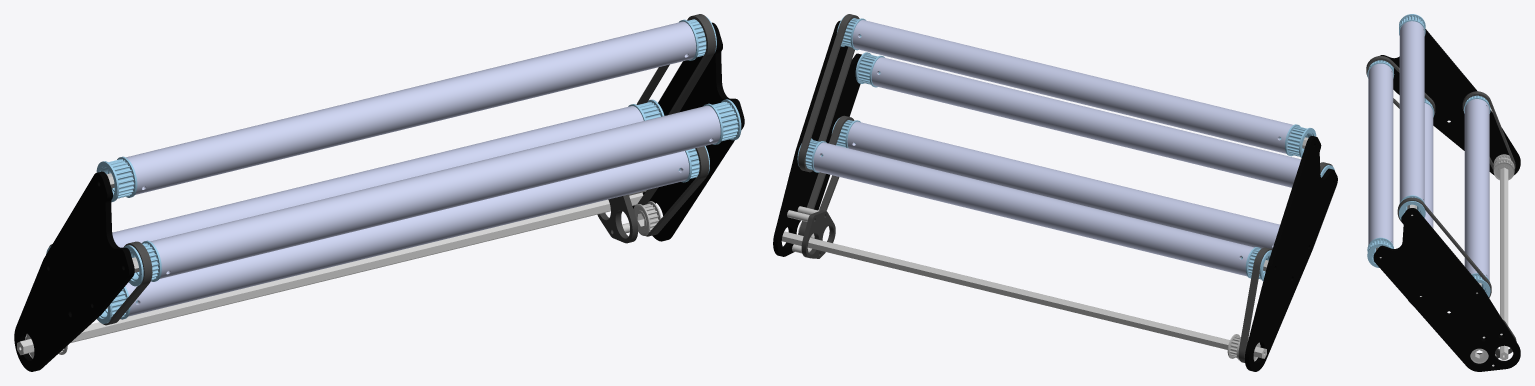
The model's file is Snapback_Collector_Intake.glb.
The picture shows the model from 3 angles, left to right: view 1: azimuth 30°, elevation 25°; view 2: azimuth 150°, elevation 25°; view 3: azimuth 270°, elevation 25°; orthographic projection. The views are drawn at different scales.
Parts seen in each view (by area): view 1: NAUO170 (×4), NAUO151, NAUO156, NAUO146, NAUO174 (×2), NAUO159, NAUO163, NAUO162, NAUO175, NAUO160, NAUO158; view 2: NAUO170 (×4), NAUO151, NAUO156, NAUO146, NAUO159, NAUO162, NAUO163, NAUO161, NAUO174, NAUO175; view 3: NAUO170 (×4), NAUO146, NAUO151, NAUO156, NAUO175 (×3), NAUO159, NAUO161, NAUO160, NAUO133, NAUO174, NAUO158.
Part boxes in pixels (<box>): NAUO170 (×4): <box>112,21,720,316</box>; NAUO151: <box>14,171,134,371</box>; NAUO156: <box>17,192,643,355</box>; NAUO146: <box>632,22,744,241</box>; NAUO174 (×2): <box>96,156,161,286</box>; NAUO159: <box>636,14,715,114</box>; NAUO163: <box>597,194,638,243</box>; NAUO162: <box>637,146,709,236</box>; NAUO175: <box>703,99,741,144</box>; NAUO160: <box>103,241,152,325</box>; NAUO158: <box>633,201,661,235</box>; NAUO170 (×4): <box>813,20,1300,276</box>; NAUO151: <box>1245,136,1337,371</box>; NAUO156: <box>781,231,1266,358</box>; NAUO146: <box>773,20,861,256</box>; NAUO159: <box>798,14,859,172</box>; NAUO162: <box>798,115,854,235</box>; NAUO163: <box>801,210,835,258</box>; NAUO161: <box>1238,247,1272,362</box>; NAUO174: <box>1279,124,1316,157</box>; NAUO175: <box>855,52,884,87</box>; NAUO170 (×4): <box>1368,21,1489,280</box>; NAUO146: <box>1373,208,1520,371</box>; NAUO151: <box>1380,29,1520,175</box>; NAUO156: <box>1500,167,1508,360</box>; NAUO175 (×3): <box>1367,195,1490,296</box>; NAUO159: <box>1397,197,1491,297</box>; NAUO161: <box>1462,91,1515,170</box>; NAUO160: <box>1366,56,1435,114</box>; NAUO133: <box>1493,158,1514,180</box>; NAUO174: <box>1399,14,1425,35</box>; NAUO158: <box>1470,348,1488,363</box>.
Bounding box in the file's own units: 0.7144 × 0.2857 × 0.2367.
